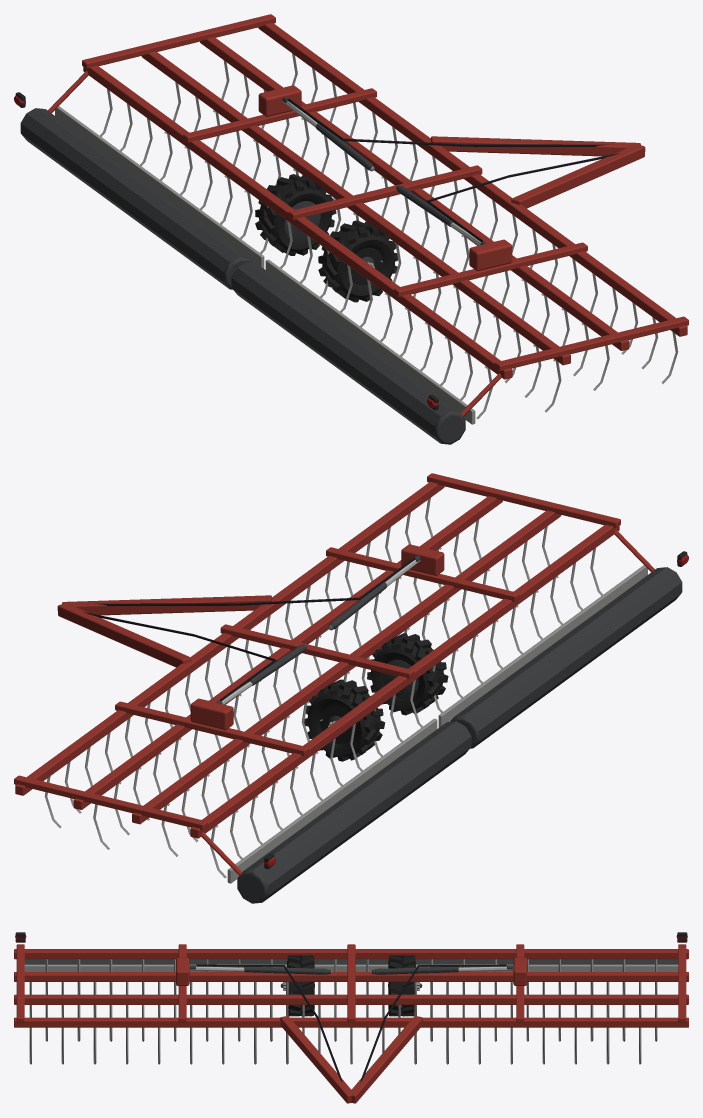
Rendered from SM_Prop_farm_cultivator_0.glb.
The picture shows the model from 3 angles, top to bottom: view 1: azimuth 30°, elevation 25°; view 2: azimuth 150°, elevation 25°; view 3: azimuth 270°, elevation 25°; orthographic projection. The views are drawn at different scales.
Visible parts, largest first — view 1: SM_Prop_farm_cultivator_0; view 2: SM_Prop_farm_cultivator_0; view 3: SM_Prop_farm_cultivator_0.
Boxes of the visible parts, bbox=[...] form: SM_Prop_farm_cultivator_0: bbox=[14, 14, 688, 444]; SM_Prop_farm_cultivator_0: bbox=[14, 473, 688, 903]; SM_Prop_farm_cultivator_0: bbox=[14, 932, 688, 1103].
Bounding box in the file's own units: 5.75 × 1.18 × 10.
